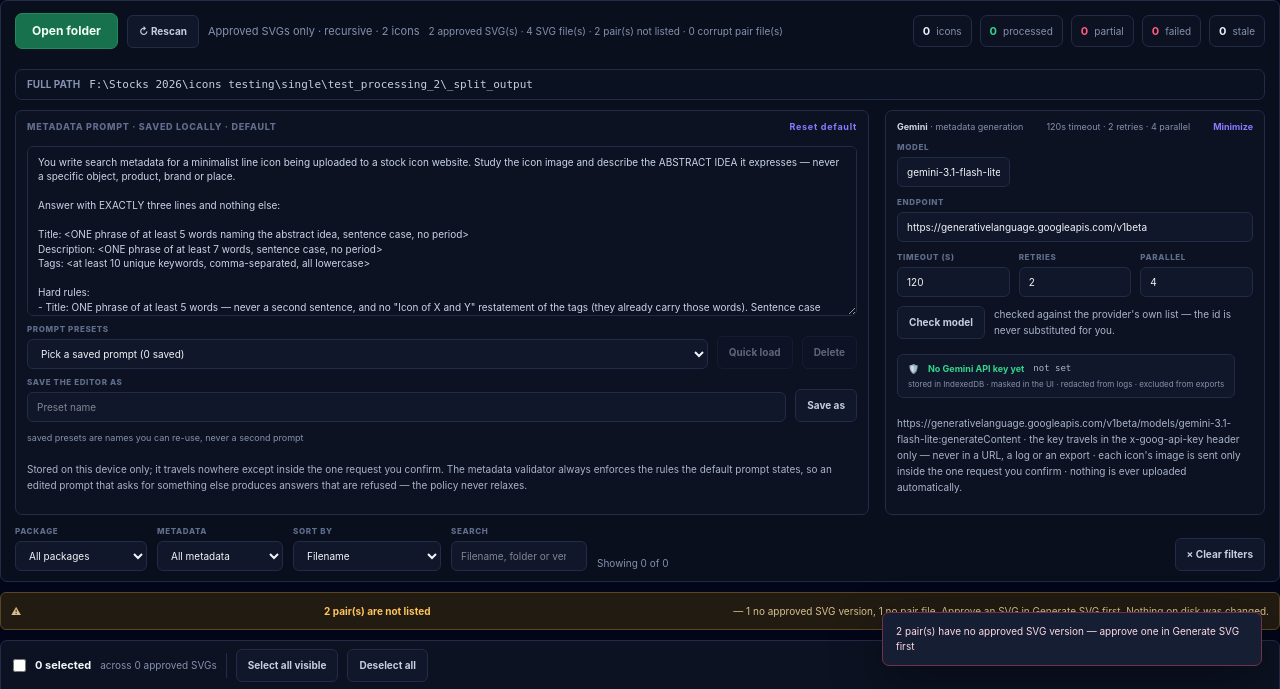
the Full path row — never a previous root with the new name appended (I-46/I-51/I-63) › picks a sibling tree while the clipboard holds a folder of the old root: the row says 'not captured'
Click the button with test id "upload-open-folder" at (66,31), box x1=15 y1=13 x2=118 y2=49
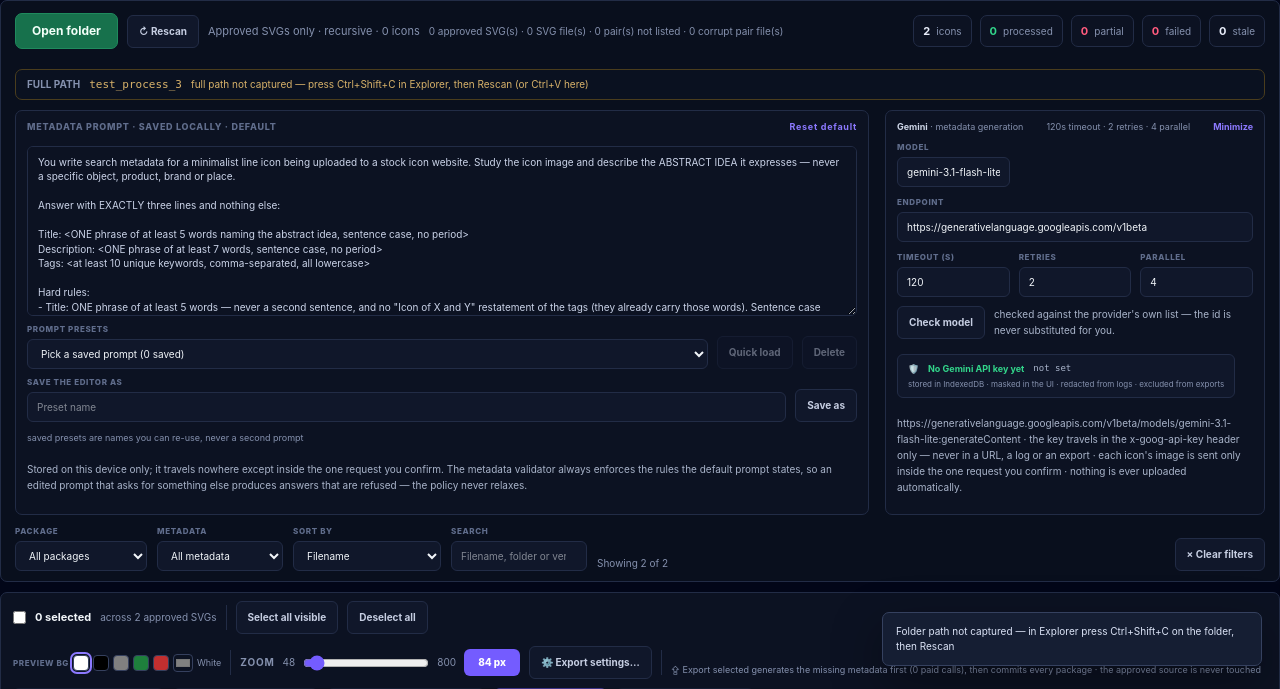
Check: the element with test id "upload-folder-path" shows "full path not captured", box x1=191 y1=78 x2=589 y2=90
